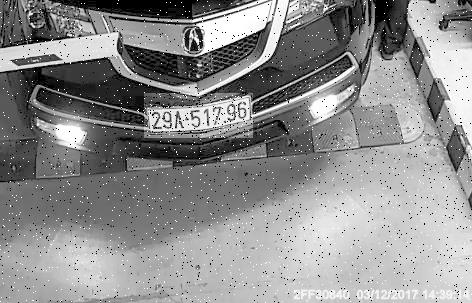License-plate: (145, 94, 254, 139)
